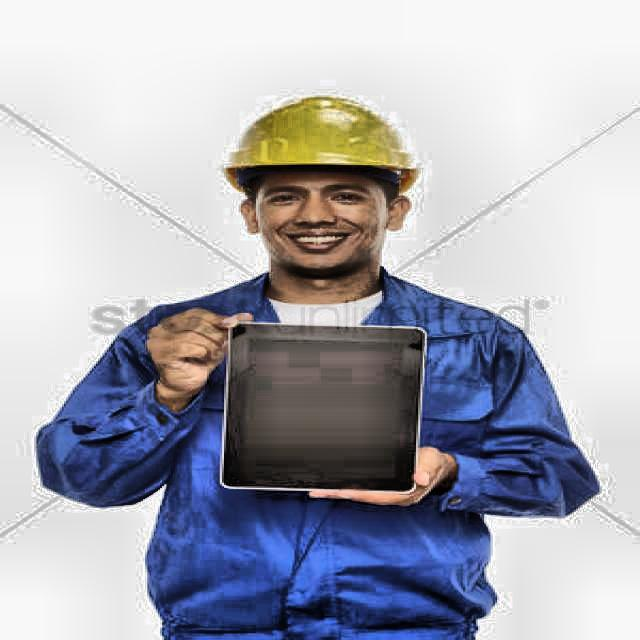person: (27, 79, 608, 640)
